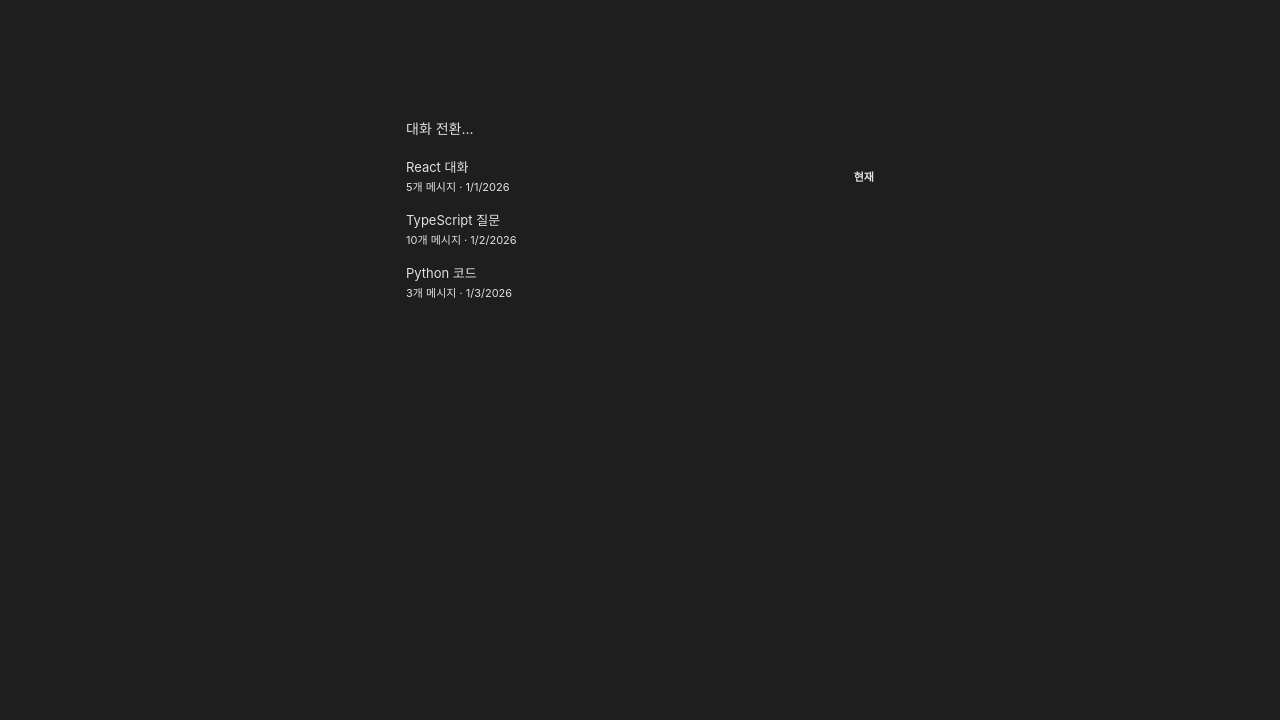
QuickSwitcher › filters conversations by search query
Type "react" into the field named "대화 검색" at (640, 128), box x1=390 y1=108 x2=890 y2=149
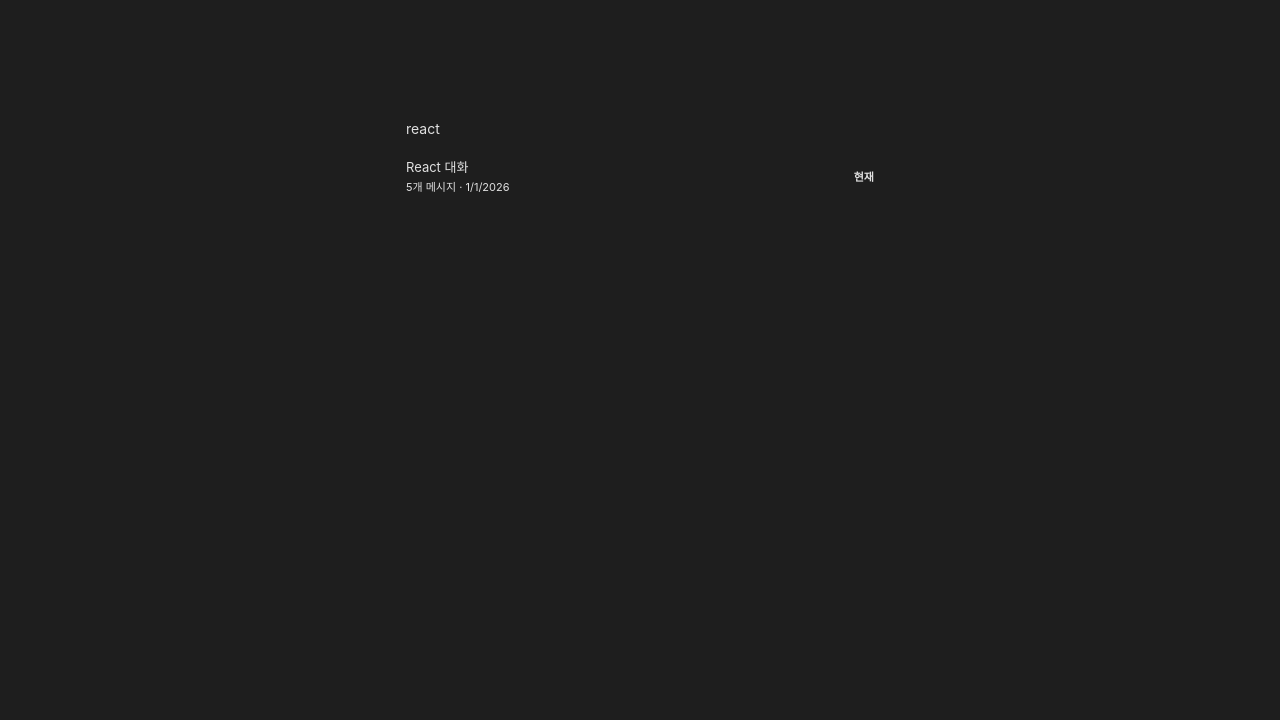
Expected: the text "React 대화" is shown, x1=406 y1=159 x2=468 y2=175
Expected: the option "TypeScript 질문" is gone
